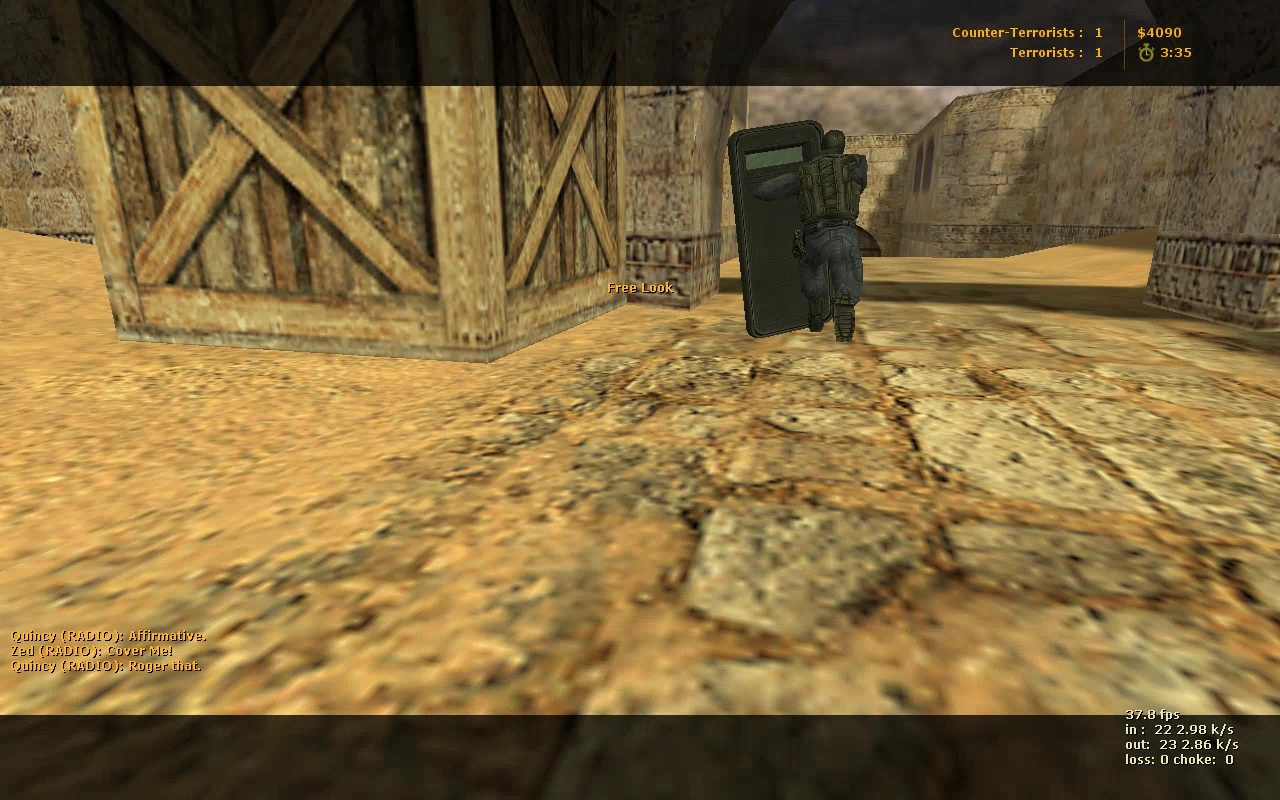ct: (728, 119, 868, 344)
